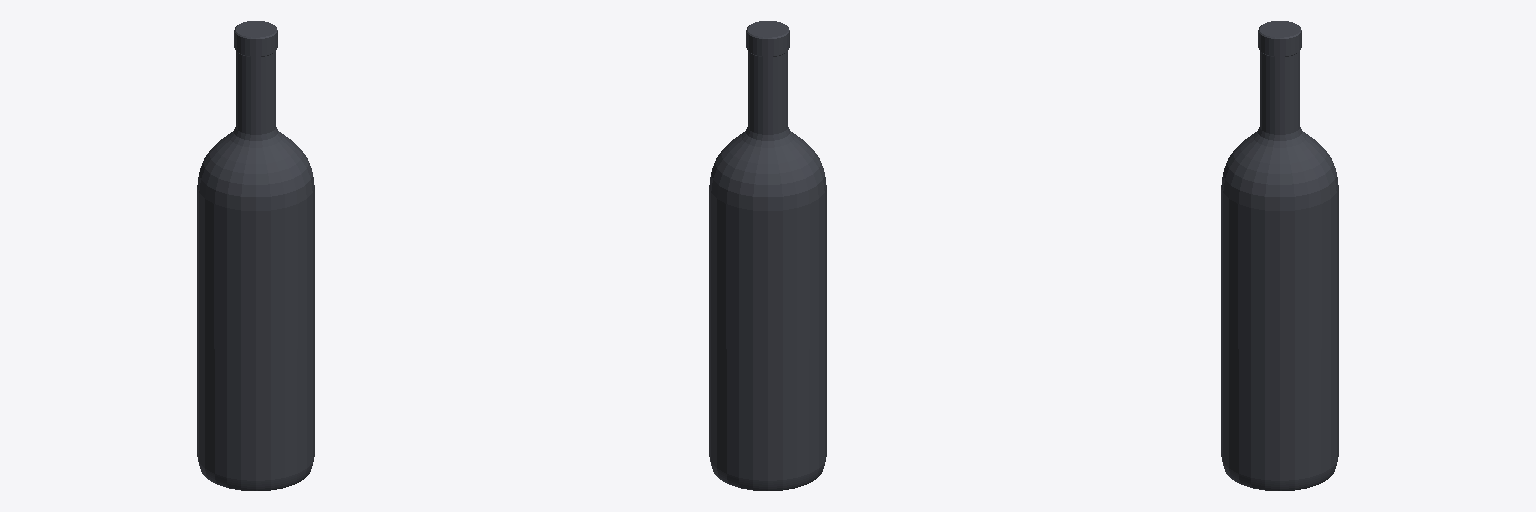
URDF robot description (../obj/bottle.urdf):
<?xml version="1.0" ?>
<robot name="../obj/bottle.urdf">
  <link name="baseLink">
    <inertial>
      <origin rpy="0 0 0" xyz="0.0002 0.0002 -0.0098"/>
       <mass value="50"/>
       <inertia ixx="4.262228144871396e-08" ixy="3.455922532991064e-11" ixz="-8.092588345359597e-11" iyy="4.2401998018544745e-08" iyz="7.005854375981171e-11" izz="4.811412366467149e-09"/>
    </inertial>
    <visual>
      <origin rpy="0 0 0" xyz="0.0002 0.0002 -0.0098"/>
      <geometry>
        <mesh filename="../obj/bottle.obj" 
		scale="7.0 7.0 7.0"/>
      </geometry>
     <material name="grey">
      <color rgba="0.32 0.33 0.36 1"/>
     </material>
    </visual>
    <collision>
      <origin rpy="0 0 0" xyz="0.0002 0.0002 -0.0098"/>
      <geometry>
        <mesh filename="../obj/bottle.obj" scale="7.0 7.0 7.0"/>
      </geometry>
    </collision>
  </link>
</robot>
        

--- Render facts (derived) ---
Views: 3 orthographic renders of the robot side by side, from view 1: azimuth 30°, elevation 25°; view 2: azimuth 150°, elevation 25°; view 3: azimuth 270°, elevation 25°.
Model ../obj/bottle.urdf with 1 links and 0 joints (none), rooted at baseLink, posed all joints at 0.
Links seen in each view (by area): view 1: baseLink; view 2: baseLink; view 3: baseLink.
Link boxes in pixels (x1,y1,x2,y2): baseLink: [197, 21, 314, 490]; baseLink: [709, 21, 826, 490]; baseLink: [1221, 21, 1338, 490].
Bounding box of the posed robot: 0.2013 × 0.2013 × 0.8312 m (x, y, z).
1 mesh visuals loaded from 1 distinct referenced files (1 OBJ).